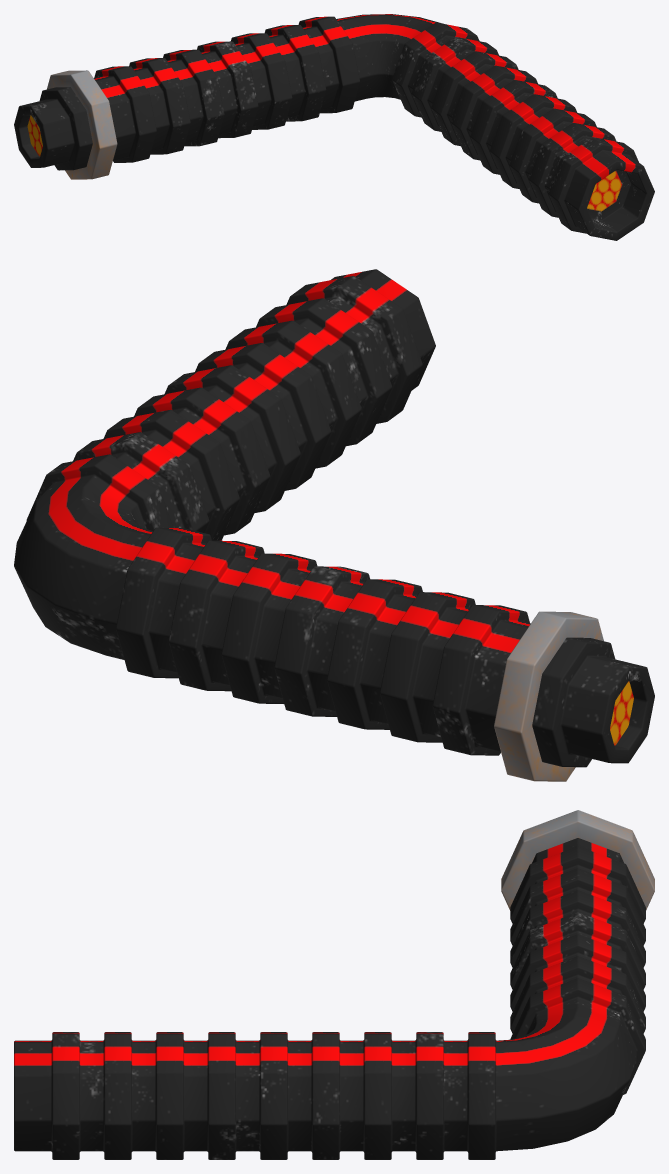
The model's file is cable_codo_izquierda.fbx.
The picture shows the model from 3 angles, top to bottom: view 1: azimuth 30°, elevation 25°; view 2: azimuth 150°, elevation 25°; view 3: azimuth 270°, elevation 25°; orthographic projection. The views are drawn at different scales.
Parts seen in each view (by area): view 1: cable_codo_rojo_izquierda; view 2: cable_codo_rojo_izquierda; view 3: cable_codo_rojo_izquierda.
Part boxes in pixels (left/top/right/bottom): cable_codo_rojo_izquierda: left=14, top=14, right=654, bottom=240; cable_codo_rojo_izquierda: left=14, top=269, right=654, bottom=781; cable_codo_rojo_izquierda: left=14, top=810, right=654, bottom=1159.
Size of the model in its own units: 218 by 52.19 by 218.
